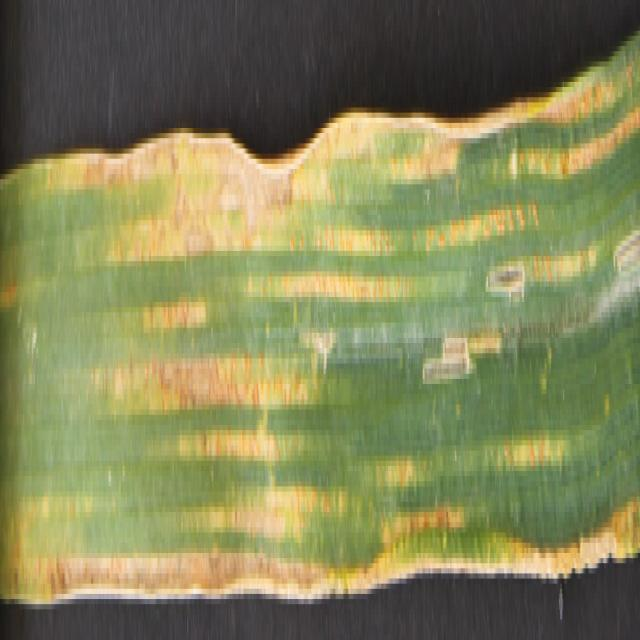leaf rust: (2, 322, 640, 614), (418, 21, 638, 261)
